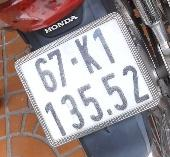1: (89, 23, 122, 70), (41, 97, 70, 138)
2: (118, 60, 152, 107)
3: (55, 88, 89, 132)
5: (96, 70, 131, 115), (74, 80, 107, 126)
6: (31, 54, 61, 95)
7: (43, 46, 72, 90)
K: (71, 32, 105, 77)
